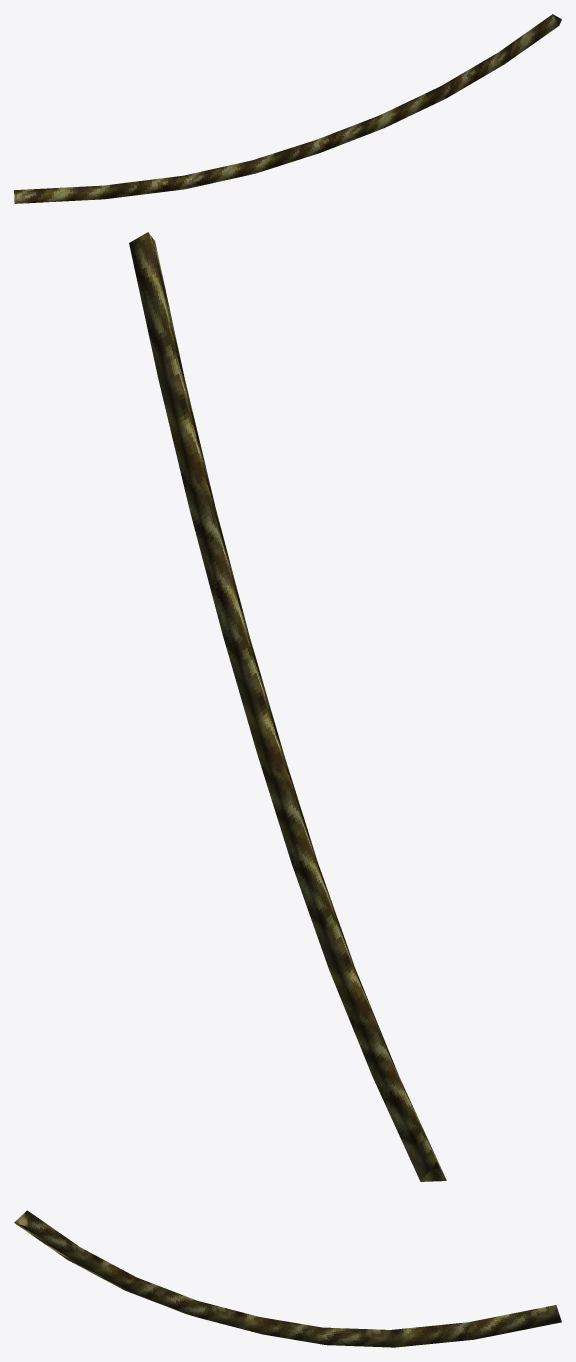
The model's file is OVERHILL_A_01_BRIDGE_ROPE_10.fbx.
3 views of the same model, one above another, from view 1: azimuth 30°, elevation 25°; view 2: azimuth 150°, elevation 25°; view 3: azimuth 270°, elevation 25° (orthographic). The views are drawn at different scales.
Visible parts, largest first — view 1: OVERHILL_A_01_BRIDGE_ROPE_10; view 2: OVERHILL_A_01_BRIDGE_ROPE_10; view 3: OVERHILL_A_01_BRIDGE_ROPE_10.
Part boxes in pixels (x1,y1,x2,y2): OVERHILL_A_01_BRIDGE_ROPE_10: (14, 14, 561, 203); OVERHILL_A_01_BRIDGE_ROPE_10: (129, 232, 446, 1181); OVERHILL_A_01_BRIDGE_ROPE_10: (14, 1210, 561, 1347).
Bounding box in the file's own units: 14350 × 9640 × 14375.
Materials: 1 (1 with a texture image).
